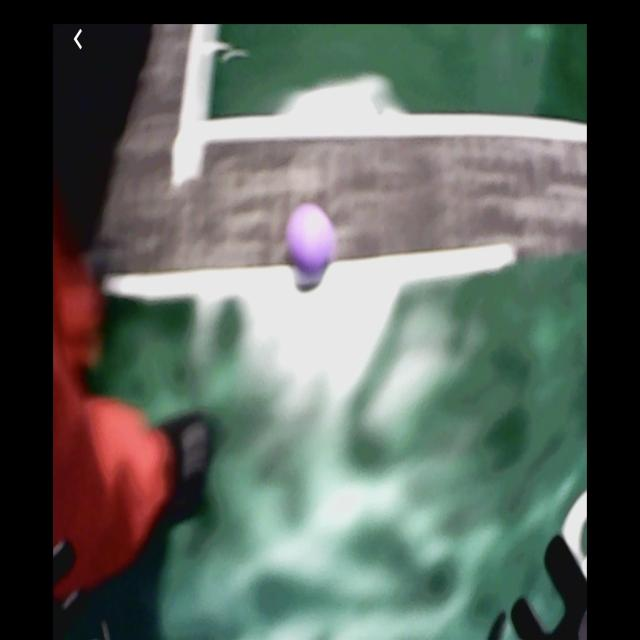ball: (287, 205, 335, 269)
